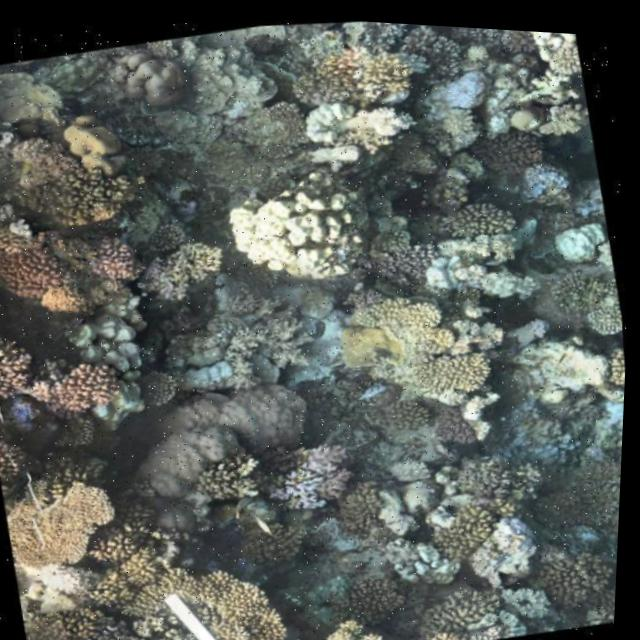Bleached Coral: (208, 156, 388, 303), (54, 281, 181, 446), (412, 207, 554, 318), (499, 293, 619, 417), (407, 43, 538, 151), (289, 79, 421, 173), (365, 433, 479, 540), (452, 492, 564, 597), (457, 566, 577, 640), (491, 393, 587, 479), (368, 512, 466, 596), (265, 428, 351, 523), (16, 536, 109, 620), (505, 24, 591, 112), (165, 329, 257, 404), (549, 209, 622, 287), (501, 147, 582, 208), (584, 382, 628, 442), (4, 207, 51, 248), (0, 97, 24, 161)
